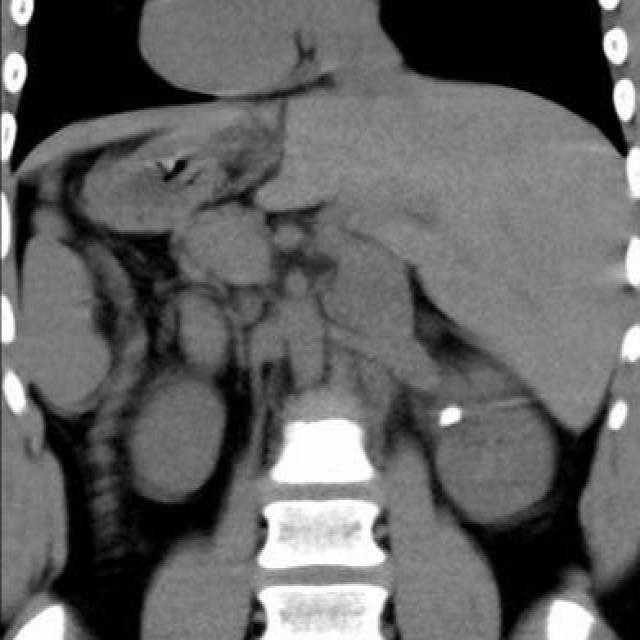Tas_Var: (430, 391, 476, 439)
